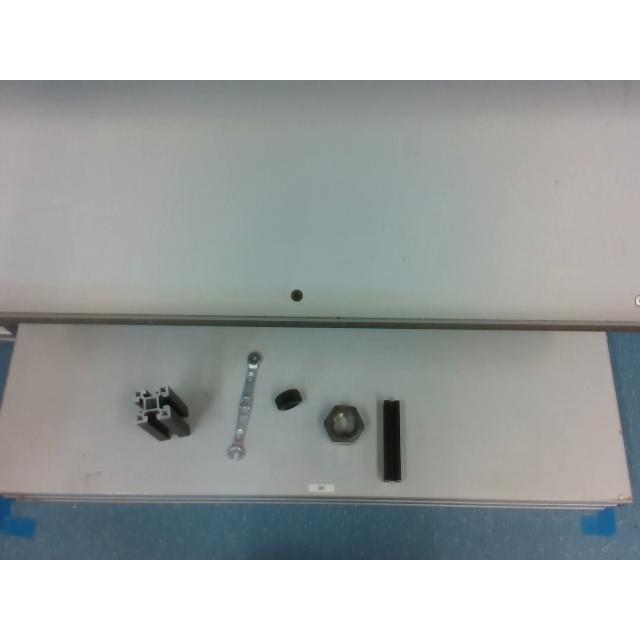F20_20_B: (379, 398, 401, 482)
M20: (274, 390, 302, 410)
M30: (324, 406, 364, 442)
S40_40_B: (133, 384, 189, 440)
Wrench: (227, 351, 261, 459)
